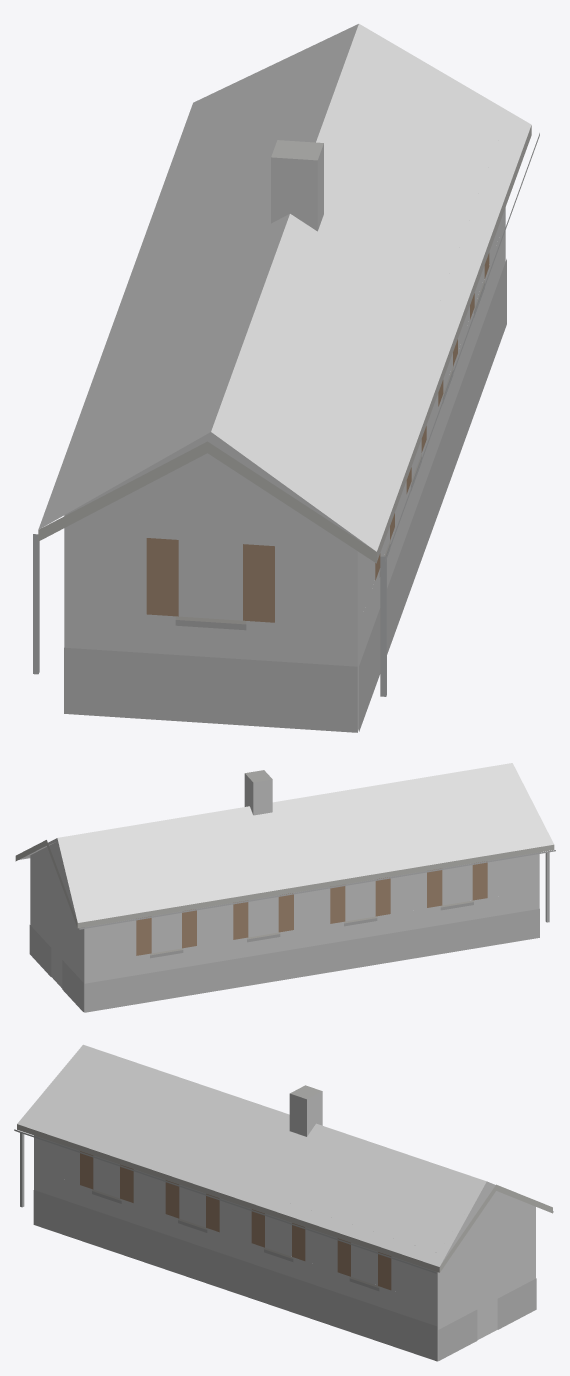
3 renders of one model, top to bottom at view 1: azimuth 30°, elevation 25°; view 2: azimuth 150°, elevation 25°; view 3: azimuth 270°, elevation 25°, orthographic. The views are drawn at different scales.
Visible parts, largest first — view 1: bld; view 2: bld; view 3: bld.
Boxes of the visible parts, x1,y1,x2,y2 form: bld: (33, 24, 539, 732); bld: (15, 763, 555, 1012); bld: (14, 1044, 553, 1361).
Size of the model in its own units: 14.17 by 5.87 by 15.75.
